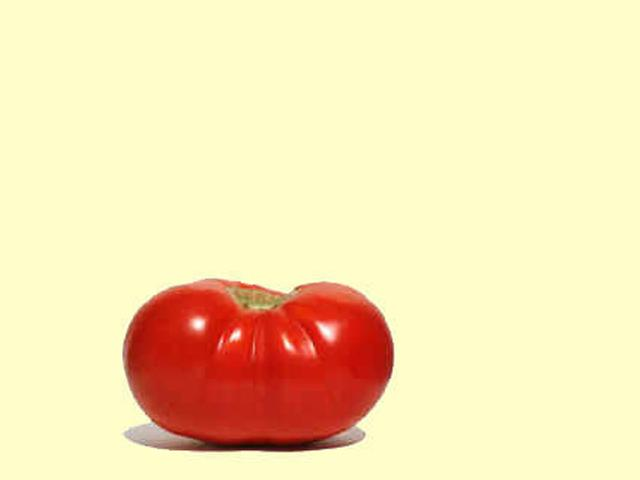tomato: (124, 278, 394, 443)
